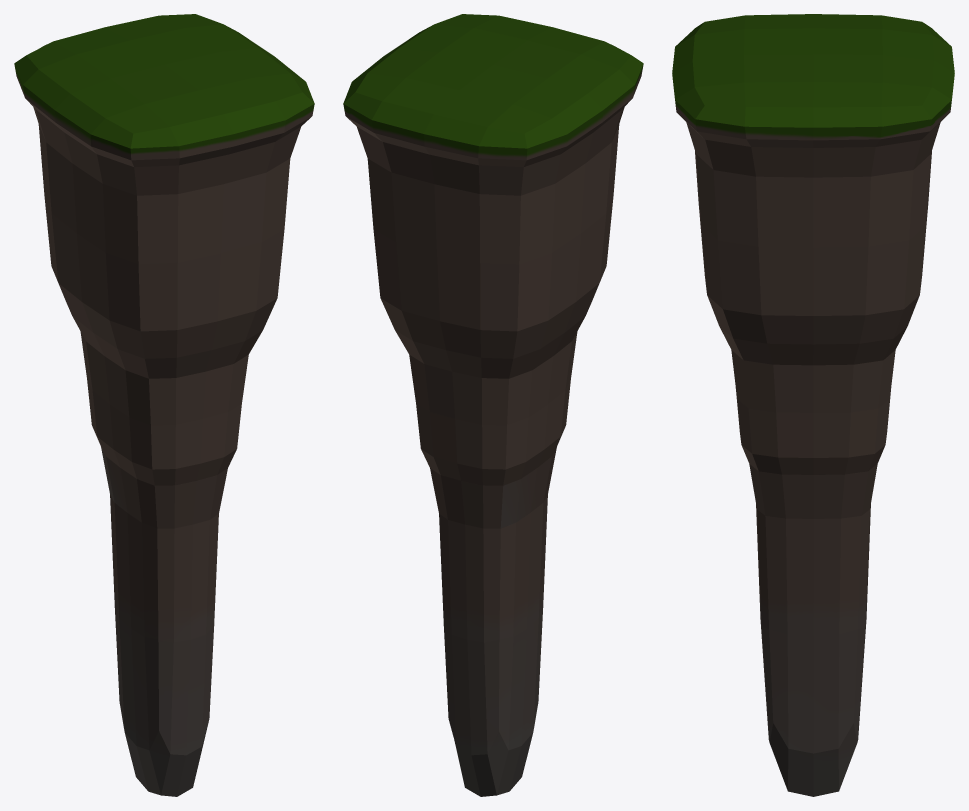
The model's file is BowPlatform.obj.
3 views of the same model, side by side, from view 1: azimuth 30°, elevation 25°; view 2: azimuth 150°, elevation 25°; view 3: azimuth 270°, elevation 25° (orthographic).
Visible parts, largest first — view 1: BowPlatform_BowPlatform.001; view 2: BowPlatform_BowPlatform.001; view 3: BowPlatform_BowPlatform.001.
Part boxes in pixels (<box>): BowPlatform_BowPlatform.001: <box>14,14,314,796</box>; BowPlatform_BowPlatform.001: <box>343,14,643,796</box>; BowPlatform_BowPlatform.001: <box>672,14,954,796</box>.
Bounding box in the file's own units: 13.35 × 42.21 × 14.62.
1 material, 1 textured.
